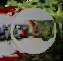Heavy Vehicles: (9, 1, 58, 54)
